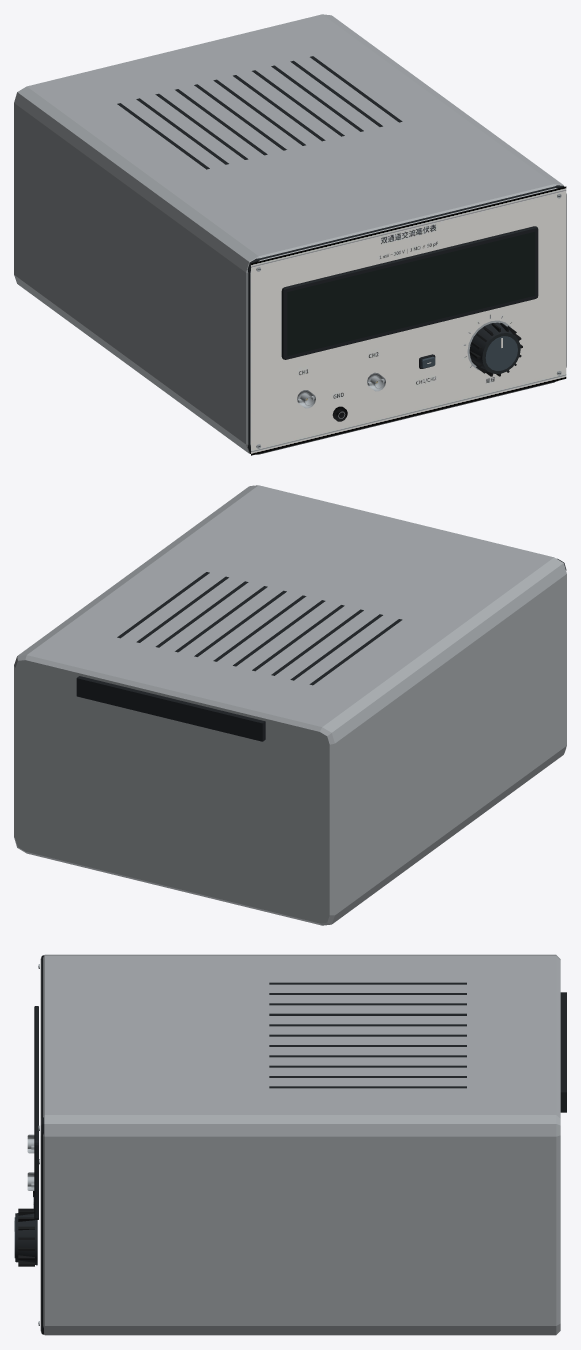
Rendered from instrument.glb.
The picture shows the model from 3 angles, top to bottom: view 1: azimuth 30°, elevation 25°; view 2: azimuth 150°, elevation 25°; view 3: azimuth 270°, elevation 25°; orthographic projection. The views are drawn at different scales.
Parts seen in each view (by area): view 1: STATIC_paint, PANEL_silkscreen, DISPLAY_MAIN, MOVING_RANGE_paint, STATIC_metal; view 2: STATIC_paint; view 3: STATIC_paint, MOVING_RANGE_paint.
Part boxes in pixels (x1=…): STATIC_paint: x1=14, y1=14, x2=566, y2=454; PANEL_silkscreen: x1=251, y1=186, x2=566, y2=455; DISPLAY_MAIN: x1=287, y1=231, x2=535, y2=355; MOVING_RANGE_paint: x1=469, y1=322, x2=522, y2=376; STATIC_metal: x1=256, y1=193, x2=561, y2=448; STATIC_paint: x1=14, y1=485, x2=566, y2=925; STATIC_paint: x1=33, y1=954, x2=566, y2=1335; MOVING_RANGE_paint: x1=14, y1=1208, x2=37, y2=1266.
Bounding box in the file's own units: 0.22 × 0.1301 × 0.2978.
Materials: 6 (1 with a texture image).
